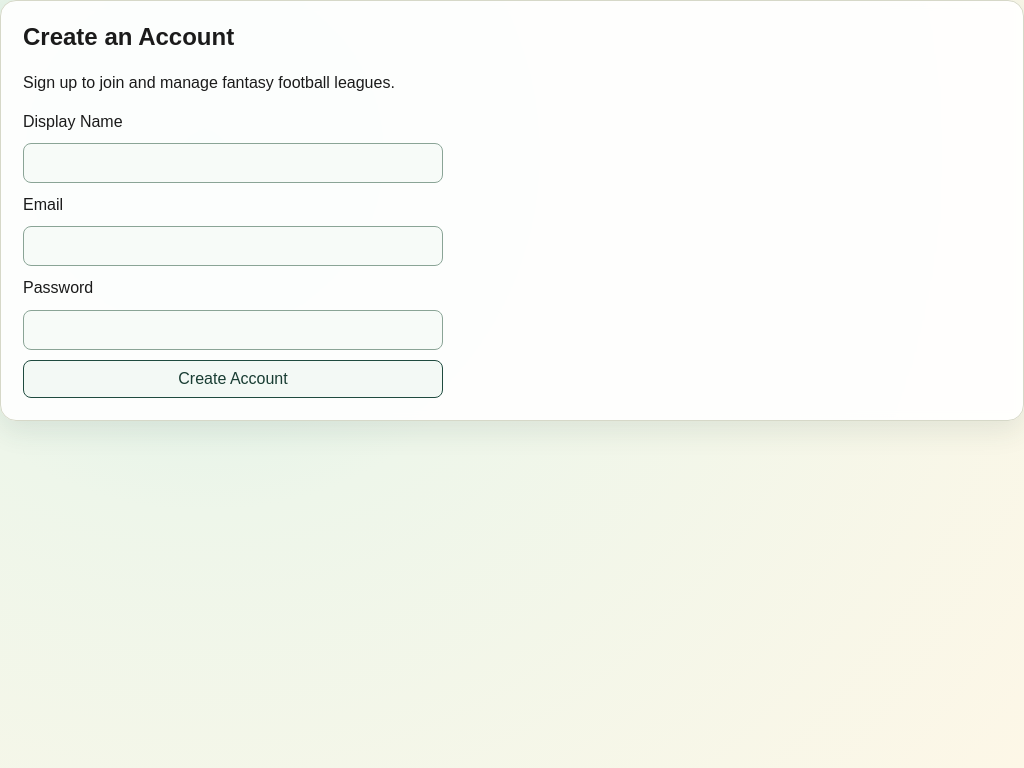
Scenario: RegisterPage › shows inline field error when displayName is blank
Step 1. Type "test@example.com" into the field labelled "Email" → (233, 246), box [23,226,443,266]
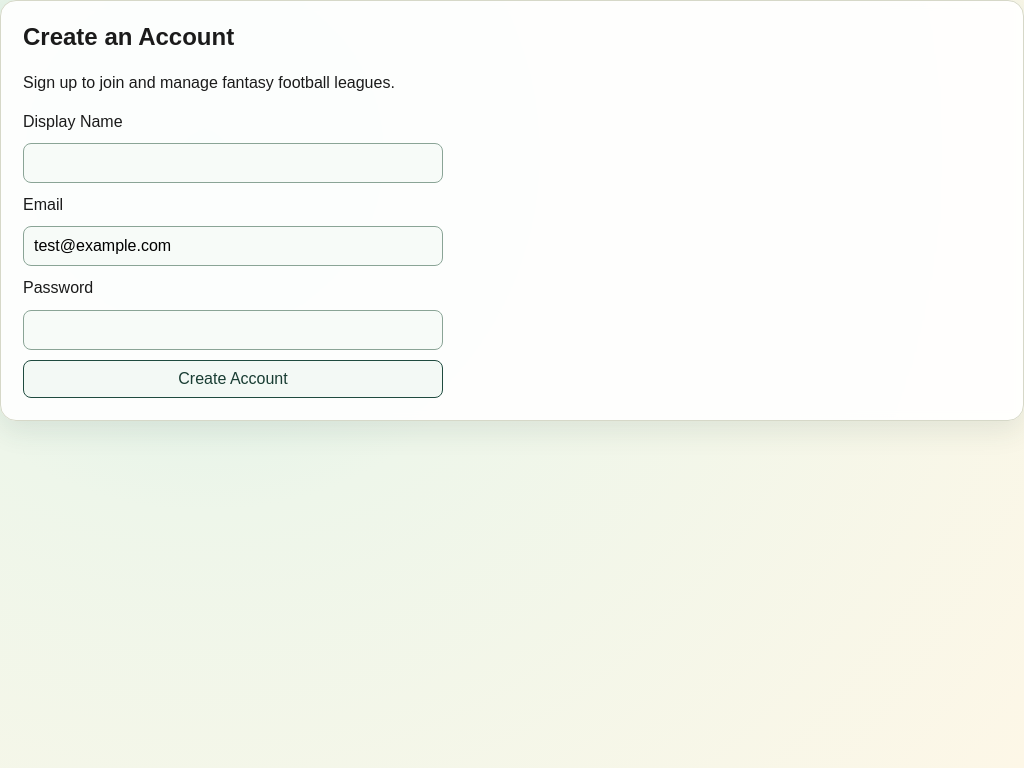
Step 2. Type "securepass1" into the password field labelled "Password" → (233, 330), box [23,310,443,350]
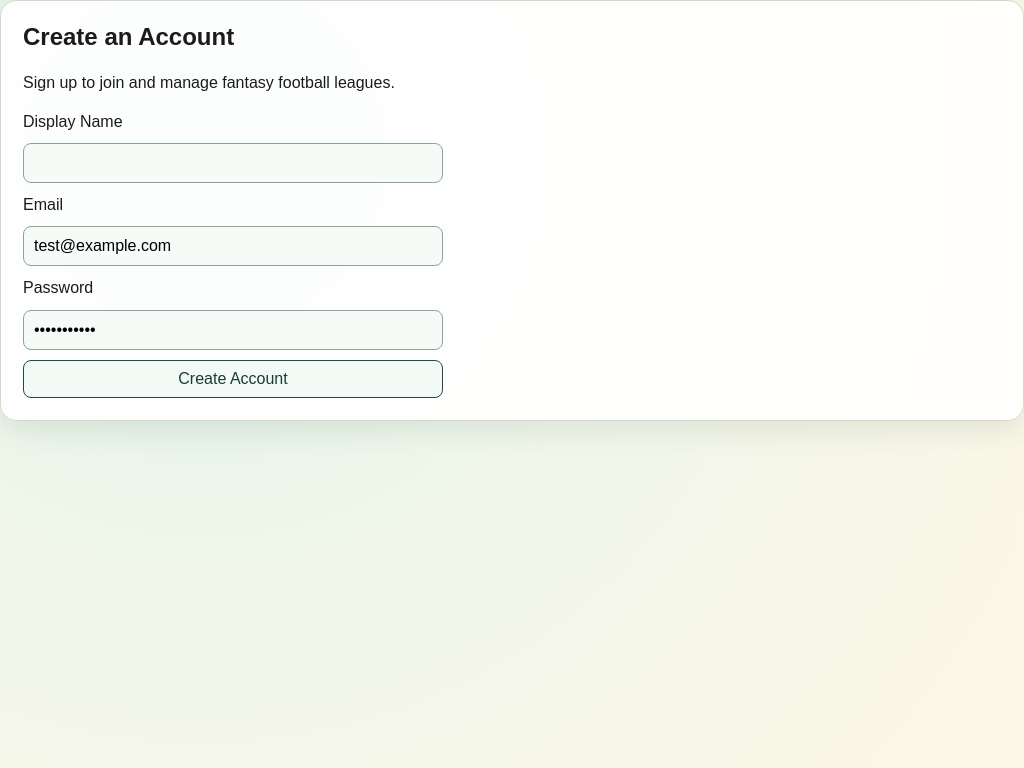
Step 3. Click the button "Create Account" → (233, 379), box [23,360,443,398]
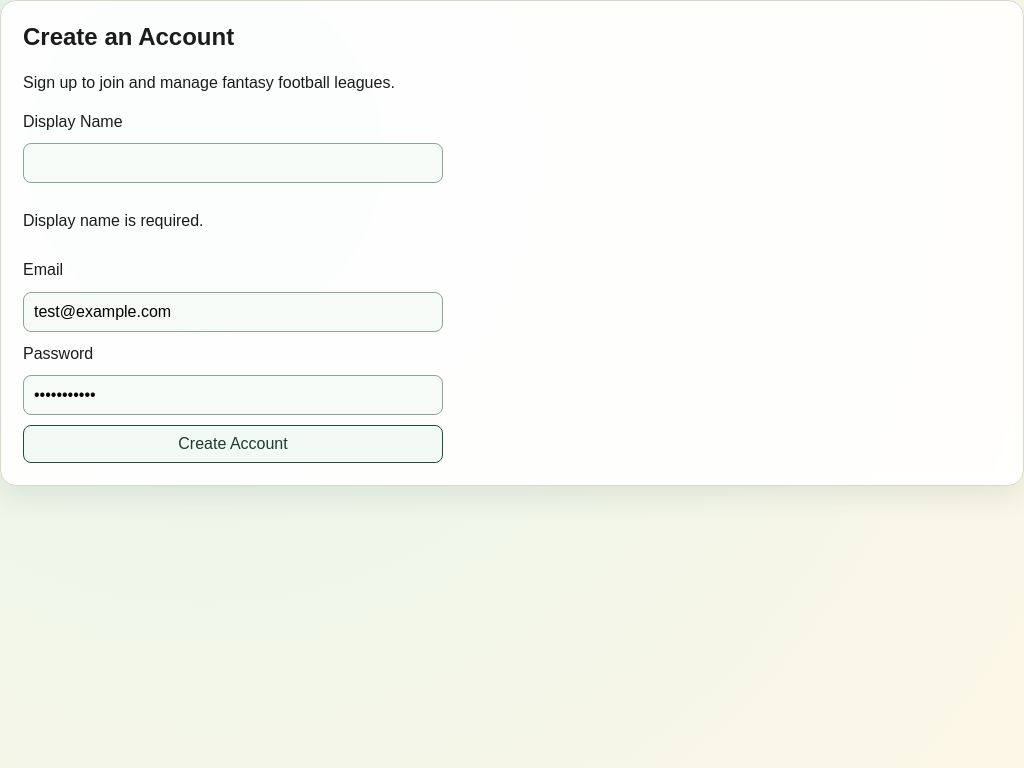
expect the text "Display name is required." is shown: met, box [23,212,204,229]
